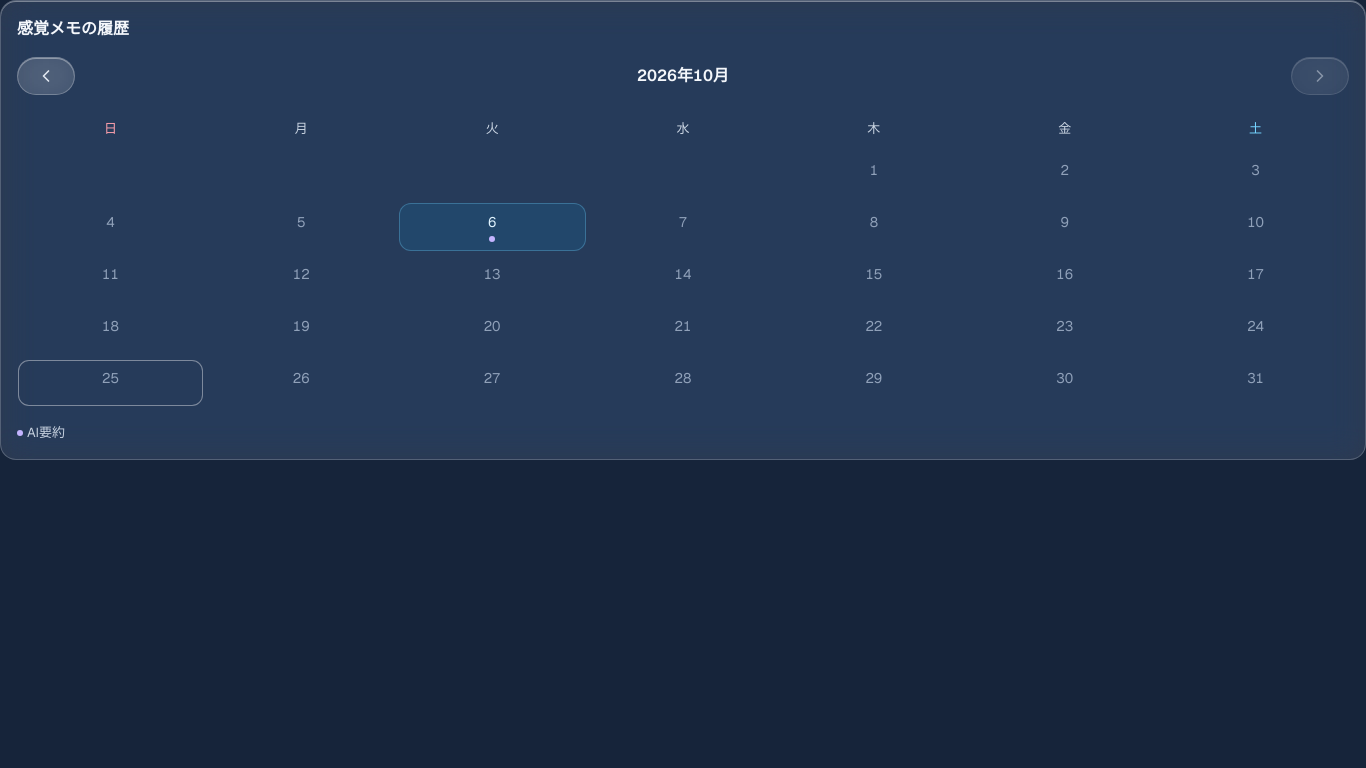
Test: 元のメモを削除した後も、まとめだけの日をカレンダーから開ける
Click the button named "2026年10月6日、感覚メモなし、AI要約あり" at (492, 227), box [399,203,586,251]
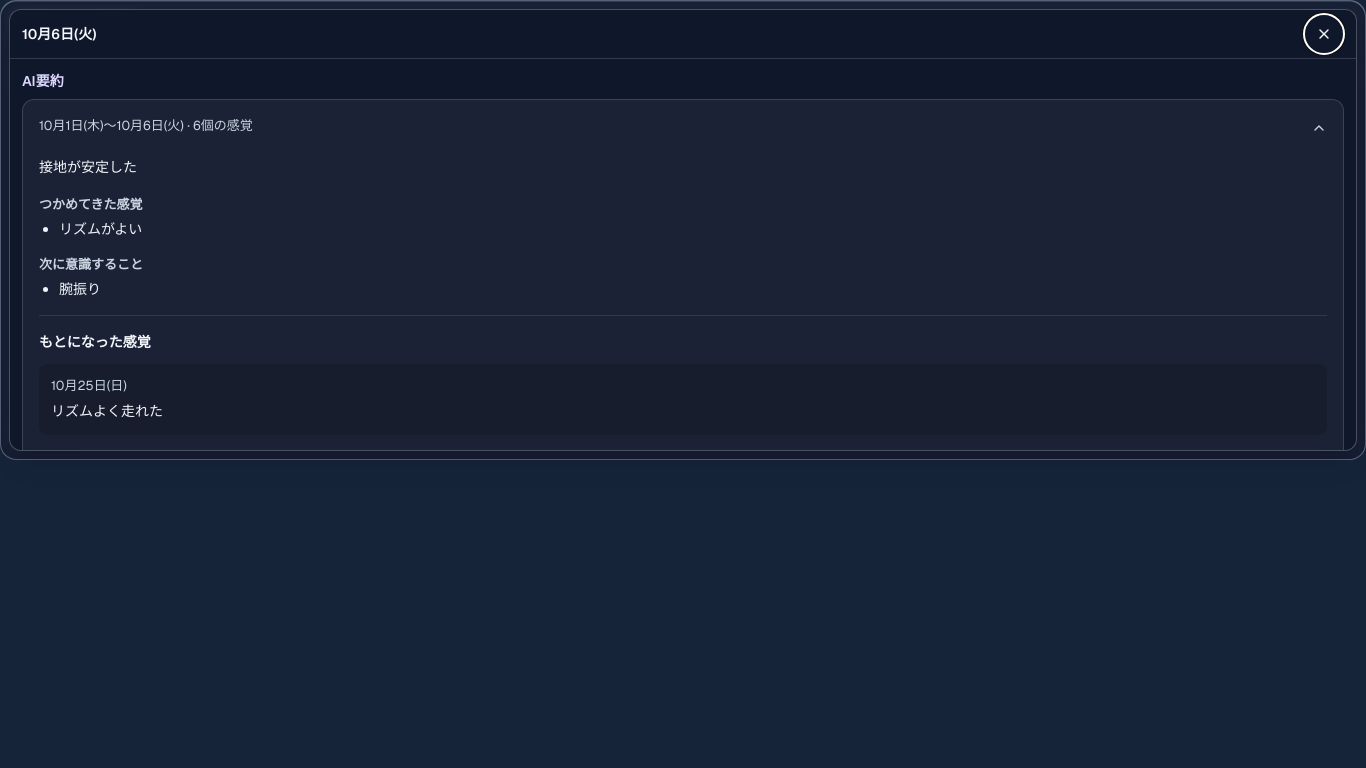
Result: the dialog shows "接地が安定した" at [39,158,137,176]
Result: the dialog shows "リズムよく走れた" at [51,402,163,420]
Click the element that starts with "10月6日(火)" at (683, 230), box [1,1,1365,459]
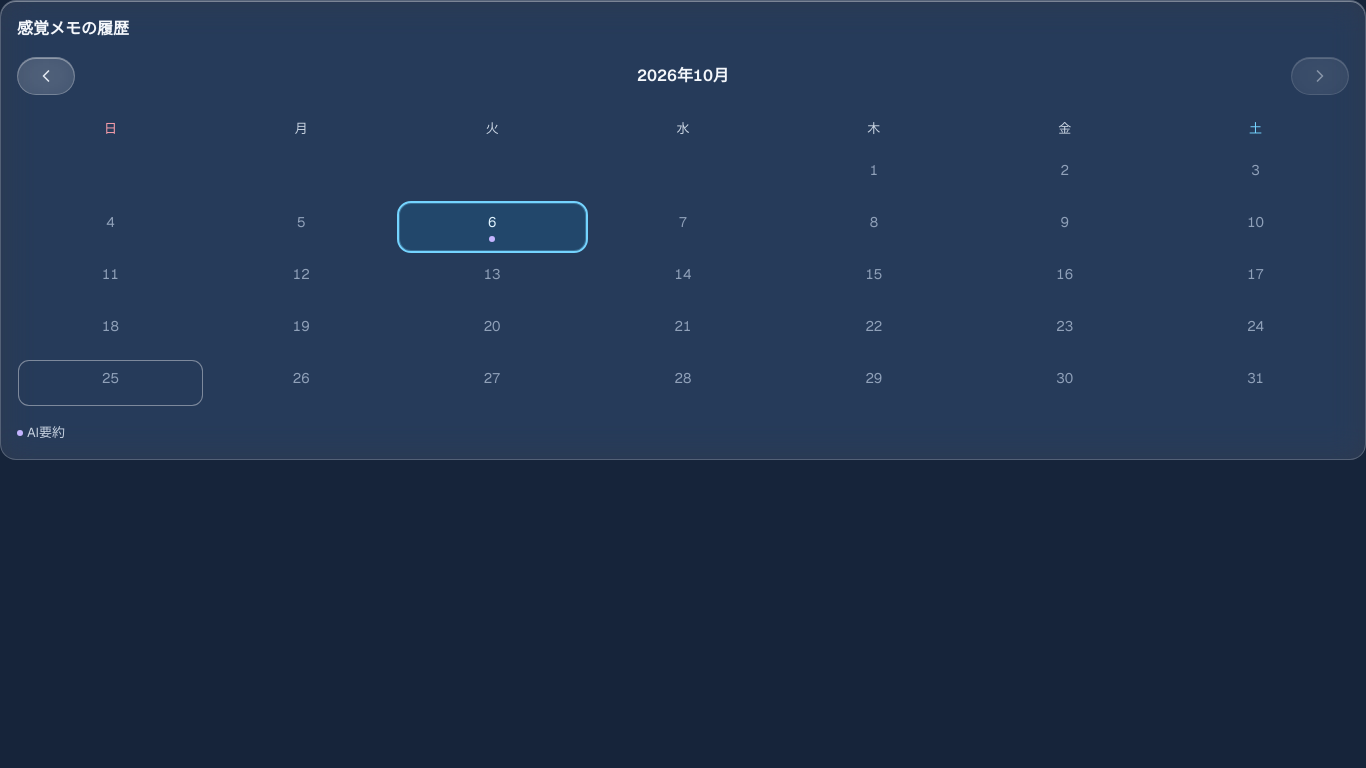
Result: the dialog is gone
